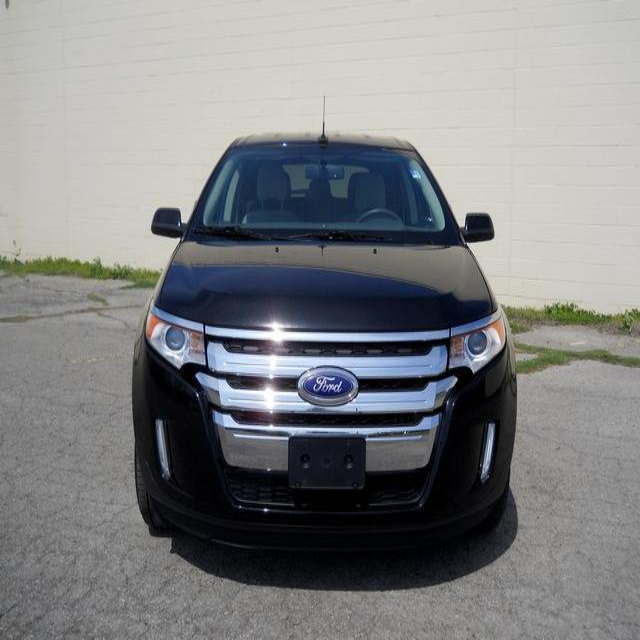Car: (131, 128, 518, 553)
